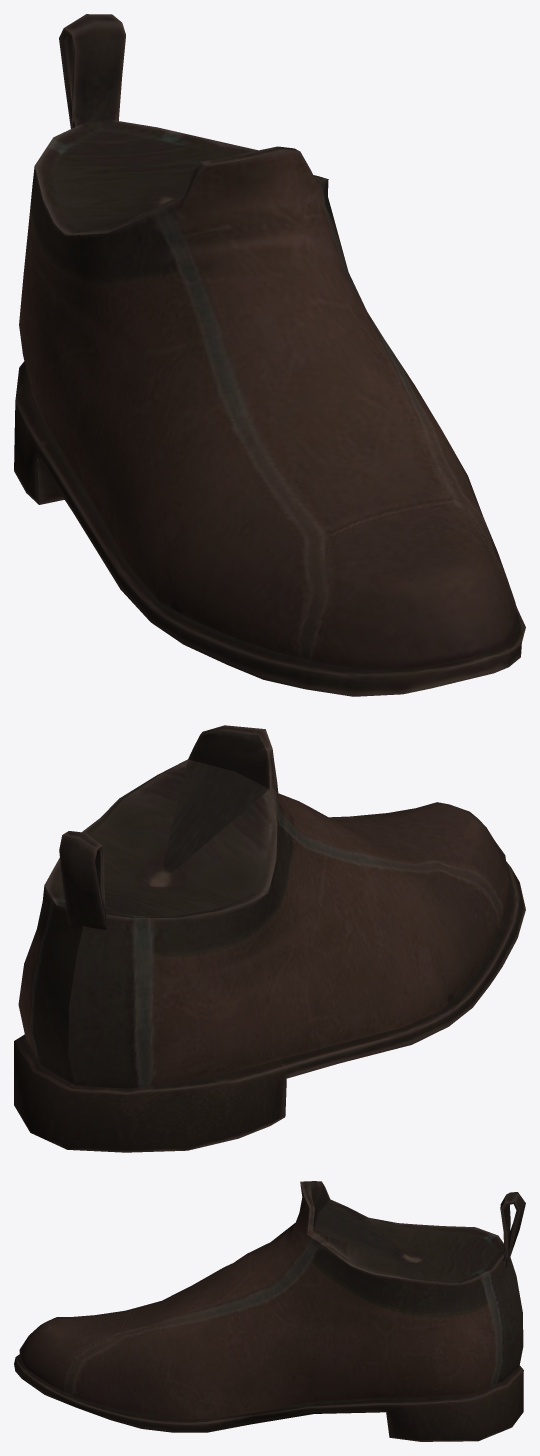
File: pie_der.obj
3 views of the same model, one above another, from view 1: azimuth 30°, elevation 25°; view 2: azimuth 150°, elevation 25°; view 3: azimuth 270°, elevation 25° (orthographic). The views are drawn at different scales.
Visible parts, largest first — view 1: node_id800; view 2: node_id800; view 3: node_id800.
Boxes of the visible parts, x1,y1,x2,y2 form: node_id800: [14, 14, 525, 696]; node_id800: [14, 725, 525, 1152]; node_id800: [14, 1181, 525, 1441].
Size of the model in its own units: 0.1229 by 0.1433 by 0.3055.
1 material, 1 textured.
